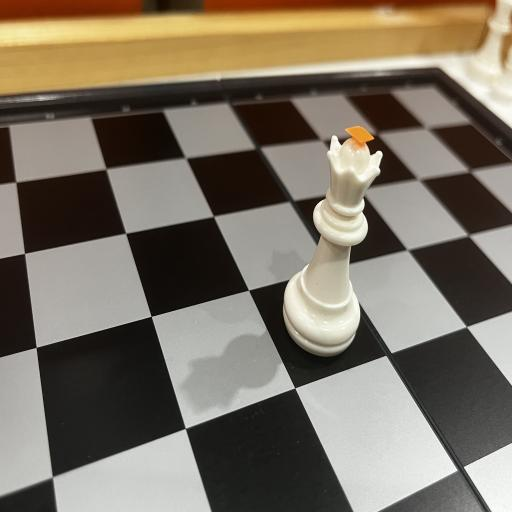White queen: (282, 125, 382, 356)
